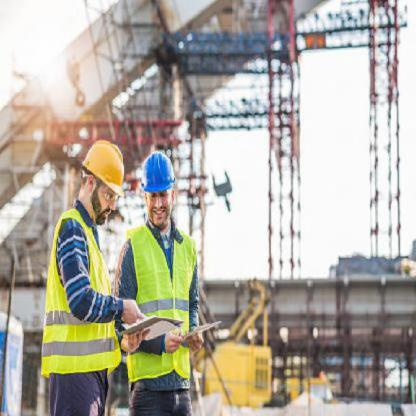blue-helm: (138, 149, 180, 196)
glass: (98, 184, 121, 205)
person: (124, 131, 216, 414), (35, 134, 127, 416)
vest-helm: (39, 200, 122, 383), (115, 222, 199, 388)
yellow-helm: (79, 137, 132, 200)
